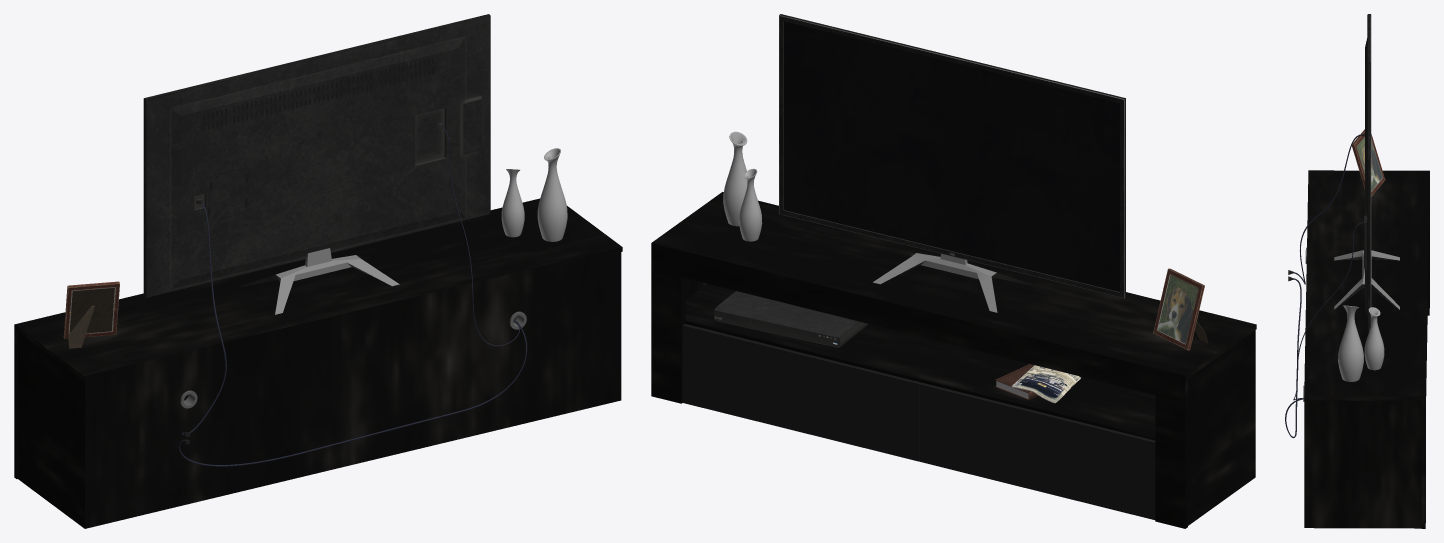
Rendered from M-Entertainment.obj.
3 views of the same model, side by side, from view 1: azimuth 30°, elevation 25°; view 2: azimuth 150°, elevation 25°; view 3: azimuth 270°, elevation 25° (orthographic). The views are drawn at different scales.
Visible parts, largest first — view 1: Stand, TV_&_Cables, Player_&_Decor; view 2: Stand, Screen, Player_&_Decor, TV_&_Cables; view 3: Stand, TV_&_Cables, Player_&_Decor.
Boxes of the visible parts, <box> form: Stand: <box>14,198,622,528</box>; TV_&_Cables: <box>143,14,527,466</box>; Player_&_Decor: <box>63,148,567,348</box>; Stand: <box>651,192,1256,528</box>; Screen: <box>784,21,1119,291</box>; Player_&_Decor: <box>714,131,1207,403</box>; TV_&_Cables: <box>779,14,1125,312</box>; Stand: <box>1303,170,1429,528</box>; TV_&_Cables: <box>1285,14,1399,438</box>; Player_&_Decor: <box>1338,129,1385,381</box>.
Bounding box in the file's own units: 2.57 × 1.74 × 0.6952.
4 materials, 4 textured.
